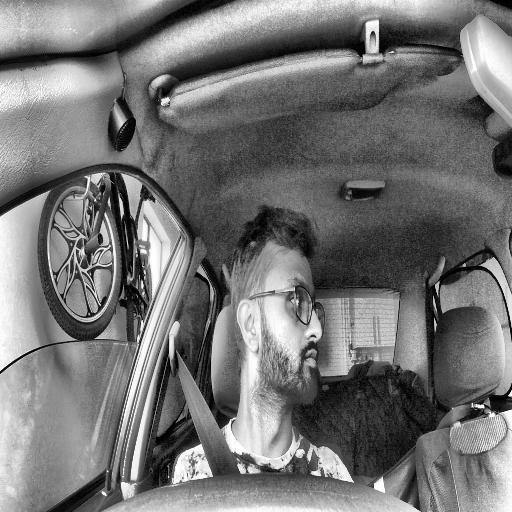awake: (228, 205, 326, 413)
